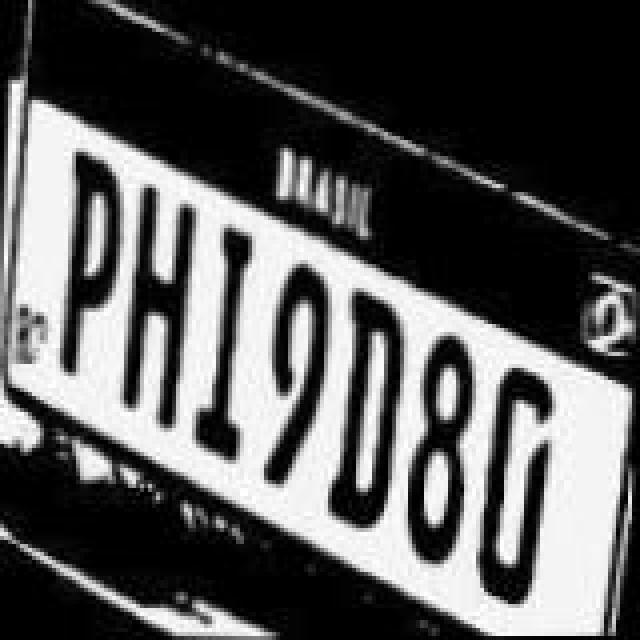8: (404, 336, 480, 572)
9: (258, 254, 334, 494)
D: (320, 286, 404, 538), (480, 362, 560, 606)
H: (116, 182, 200, 430)
I: (192, 220, 260, 464)
P: (56, 148, 120, 380)
